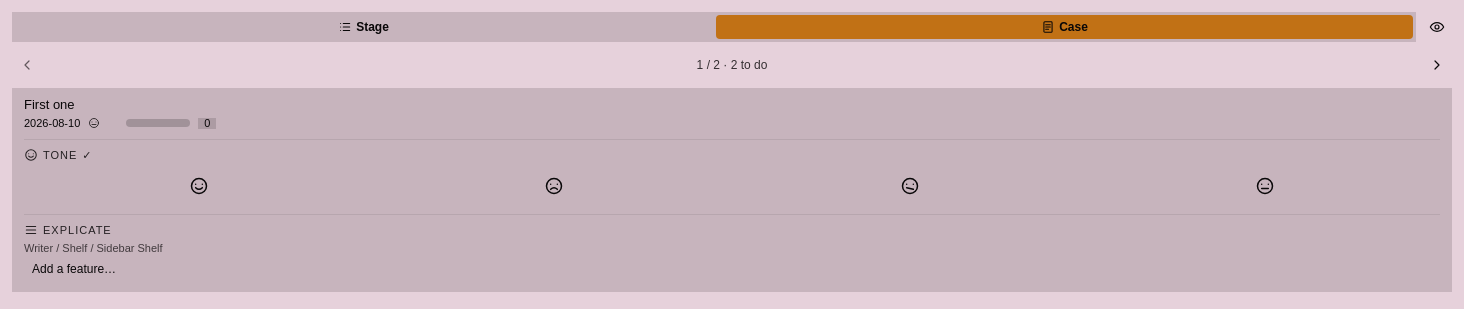
validation by case › shows one message at a time with both stages, and steps through them
Check: the text "First one" is shown, box left=24, top=97, right=75, bottom=112
Check: the text "Second one" is not shown
Click the button named "Next case" at [1437, 65], box left=1422, top=50, right=1452, bottom=80
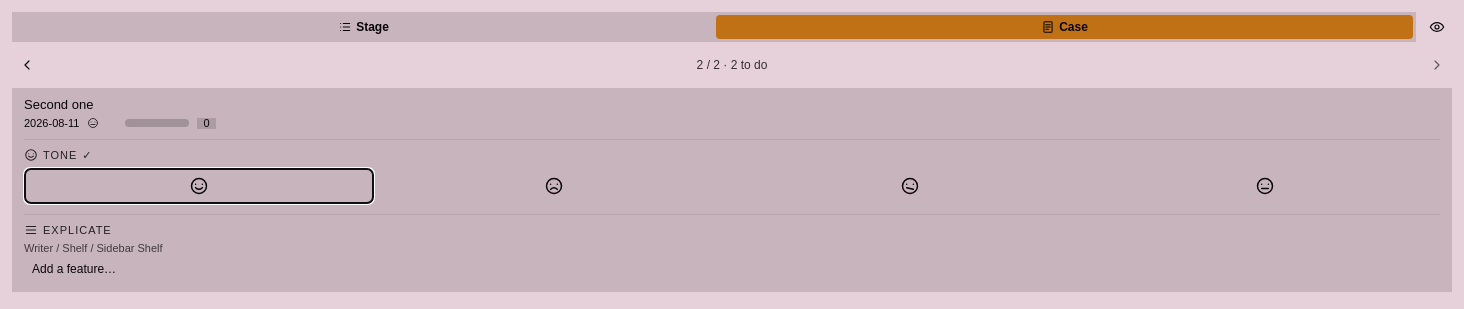
Check: the text "Second one" is shown, box left=24, top=97, right=93, bottom=112
